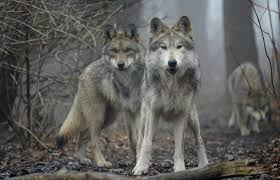Lobo: (137, 11, 207, 176), (62, 19, 136, 166), (227, 57, 271, 138)
